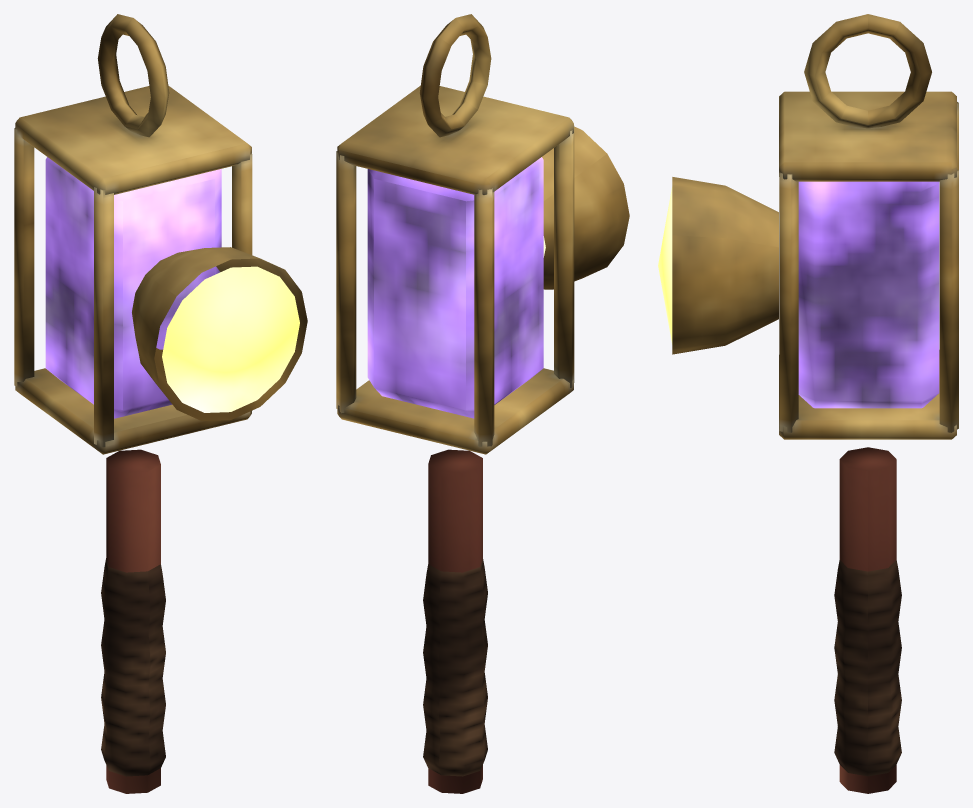
Rendered from LanternBeam.fbx.
3 views of the same model, side by side, from view 1: azimuth 30°, elevation 25°; view 2: azimuth 150°, elevation 25°; view 3: azimuth 270°, elevation 25° (orthographic).
Visible parts, largest first — view 1: LanternBeam; view 2: LanternBeam; view 3: LanternBeam.
Part boxes in pixels (x1,y1,x2,y2): LanternBeam: (14, 14, 307, 793); LanternBeam: (336, 14, 629, 793); LanternBeam: (658, 14, 958, 793).
Size of the model in its own units: 0.1014 by 0.476 by 0.169.
